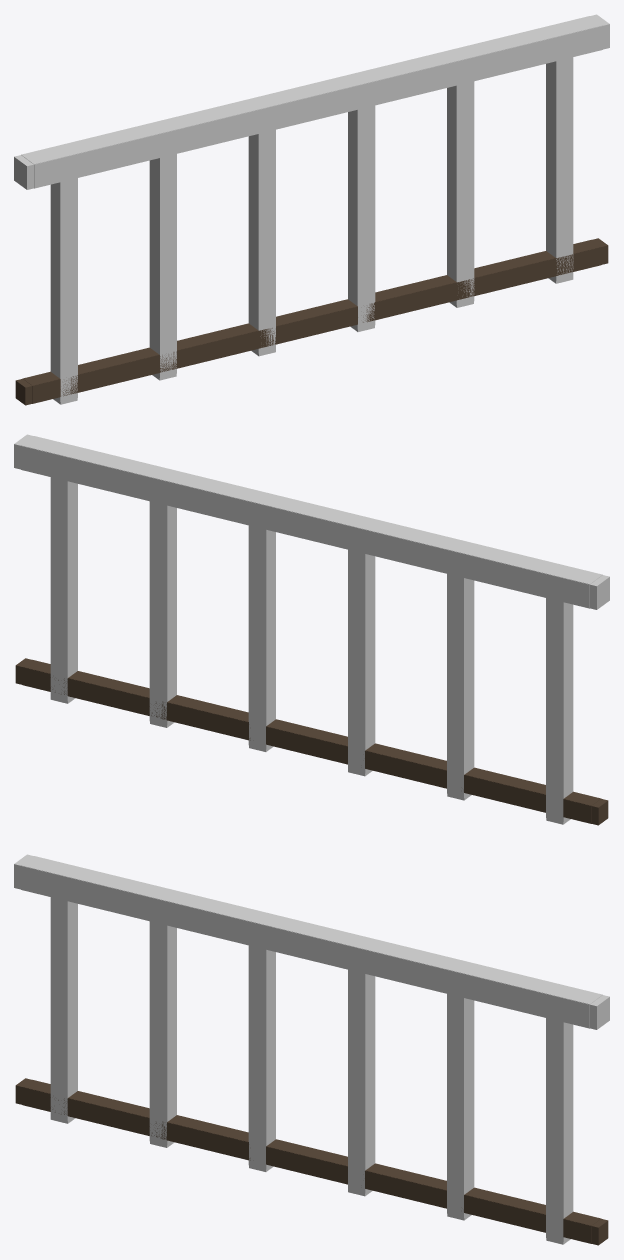
File: railing.glb
The picture shows the model from 3 angles, top to bottom: view 1: azimuth 30°, elevation 25°; view 2: azimuth 150°, elevation 25°; view 3: azimuth 330°, elevation 25°; orthographic projection.
Parts seen in each view (by area): view 1: SM_Railing; view 2: SM_Railing; view 3: SM_Railing.
Boxes of the visible parts, box(x1,y1,x2,y2) form: SM_Railing: box(14, 14, 609, 405); SM_Railing: box(14, 434, 609, 825); SM_Railing: box(14, 854, 609, 1245).
Size of the model in its own units: 2 by 0.815 by 0.08.
